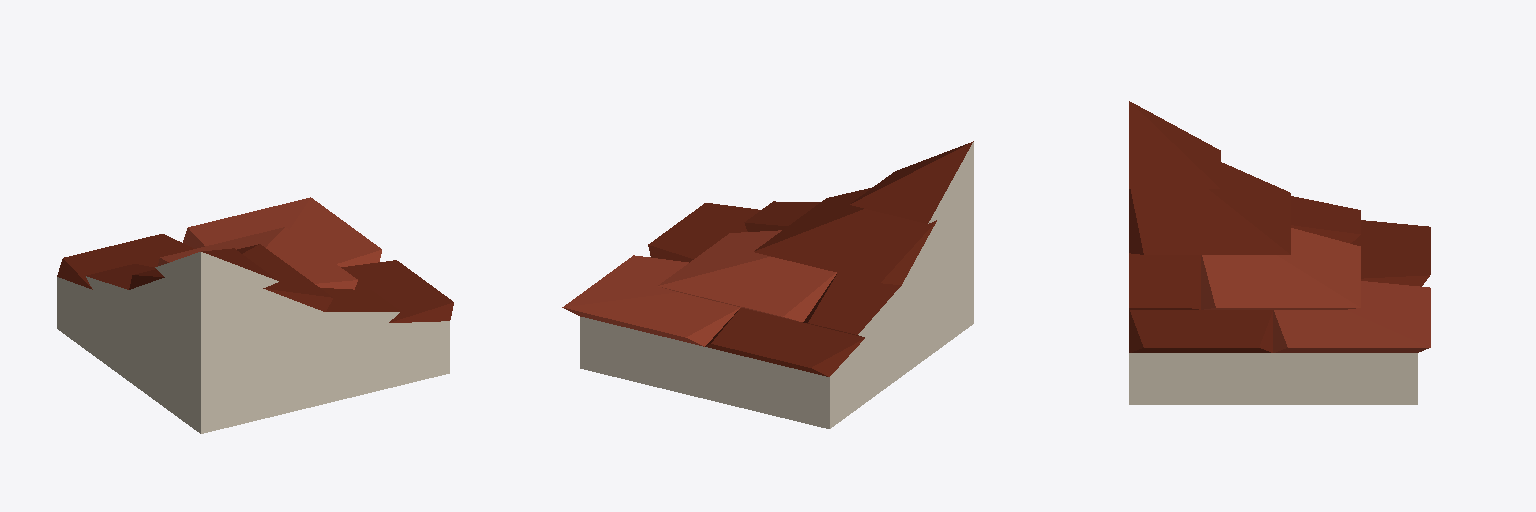
The model's file is Roof_Concave_Corner_Outer.obj.
3 views of the same model, side by side, from view 1: azimuth 30°, elevation 25°; view 2: azimuth 150°, elevation 25°; view 3: azimuth 270°, elevation 25° (orthographic).
Parts seen in each view (by area): view 1: object1; view 2: object1; view 3: object1.
Boxes of the visible parts, x1,y1,x2,y2 form: object1: [57, 197, 453, 433]; object1: [562, 141, 973, 428]; object1: [1129, 101, 1430, 404].
Size of the model in its own units: 1.05 by 0.7 by 1.05.